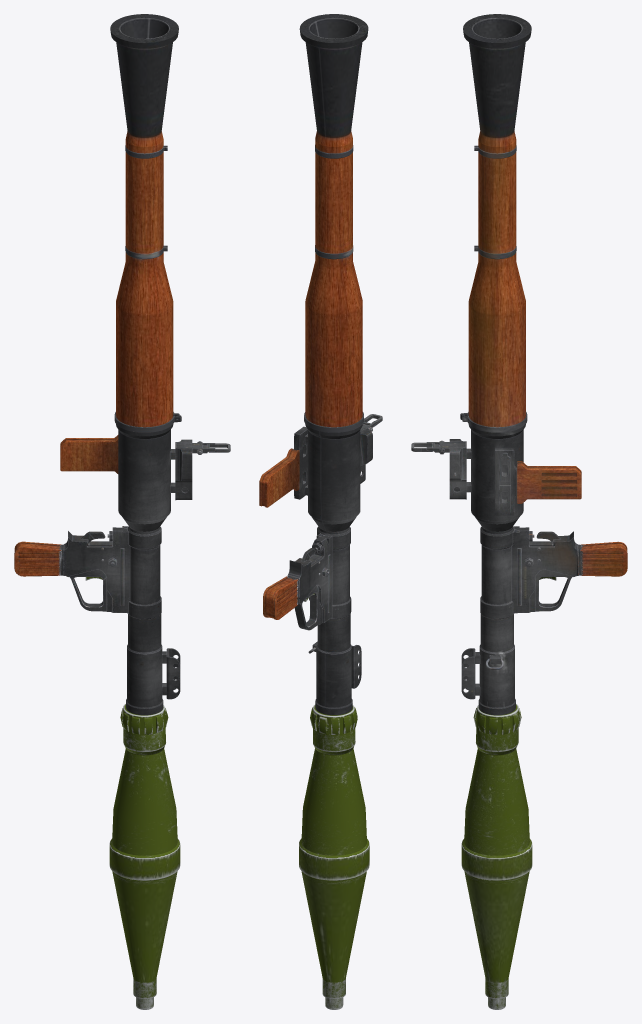
File: gun_rpg.glb
The picture shows the model from 3 angles, left to right: view 1: azimuth 90°, elevation 25°; view 2: azimuth 150°, elevation 25°; view 3: azimuth 270°, elevation 25°; orthographic projection.
Size of the model in its own units: 0.1295 by 1.9 by 0.3805.
2 materials, 2 textured.
